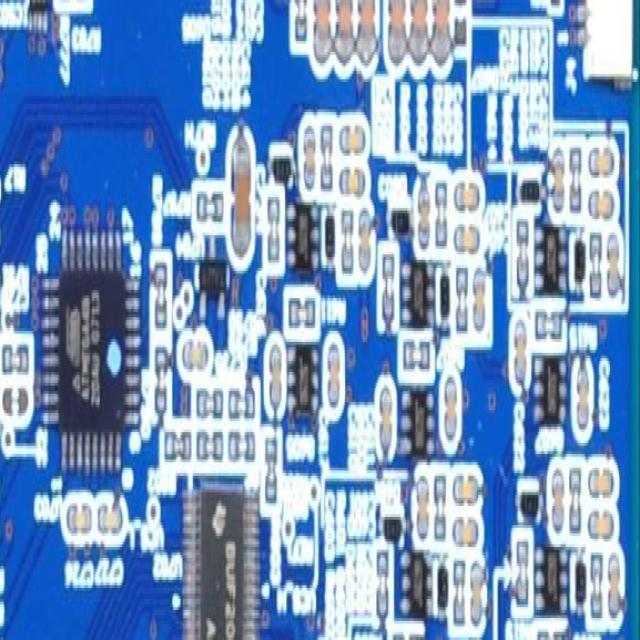capacitor: (230, 128, 258, 262), (569, 356, 595, 444), (62, 482, 94, 548), (375, 372, 399, 459), (264, 336, 286, 422), (180, 328, 216, 379), (605, 542, 626, 628), (326, 328, 346, 417), (452, 459, 486, 511), (549, 140, 570, 224), (452, 164, 488, 213), (548, 462, 568, 544), (455, 211, 486, 263), (98, 489, 124, 548), (411, 471, 432, 543), (514, 317, 532, 399), (410, 0, 432, 66), (340, 112, 368, 163), (471, 262, 489, 340), (452, 503, 484, 546), (336, 0, 355, 71), (589, 134, 617, 182), (390, 0, 410, 66), (468, 555, 486, 628), (446, 369, 462, 450), (314, 0, 333, 68), (417, 170, 434, 243), (608, 224, 623, 305), (436, 0, 455, 63), (590, 457, 616, 502), (303, 123, 320, 191), (358, 0, 378, 57), (590, 501, 617, 542), (593, 184, 618, 224), (361, 200, 374, 269), (342, 156, 366, 189)
resistor: (262, 180, 285, 281), (512, 202, 534, 300), (262, 426, 284, 520), (511, 525, 535, 610), (280, 287, 322, 335), (377, 243, 399, 330), (531, 301, 568, 350), (398, 331, 432, 383), (373, 539, 394, 623), (193, 181, 228, 228), (434, 175, 454, 253), (230, 375, 259, 428), (161, 421, 193, 469), (587, 544, 604, 633), (153, 254, 171, 336), (154, 342, 172, 423), (587, 227, 605, 306), (452, 265, 470, 343), (0, 336, 34, 374), (434, 473, 451, 548), (195, 383, 226, 423), (570, 465, 589, 530), (196, 432, 228, 470), (341, 208, 356, 284), (3, 388, 34, 424), (571, 137, 585, 211), (455, 553, 467, 638), (532, 612, 568, 640), (230, 432, 258, 464), (457, 0, 471, 60), (387, 618, 425, 640), (77, 0, 94, 8), (56, 0, 73, 8)
